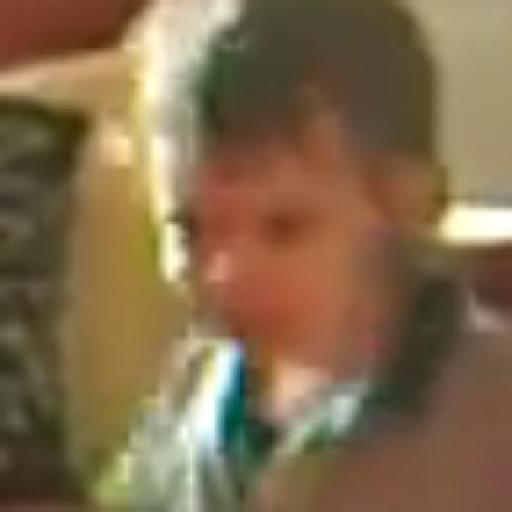Autism: (144, 25, 512, 398)
